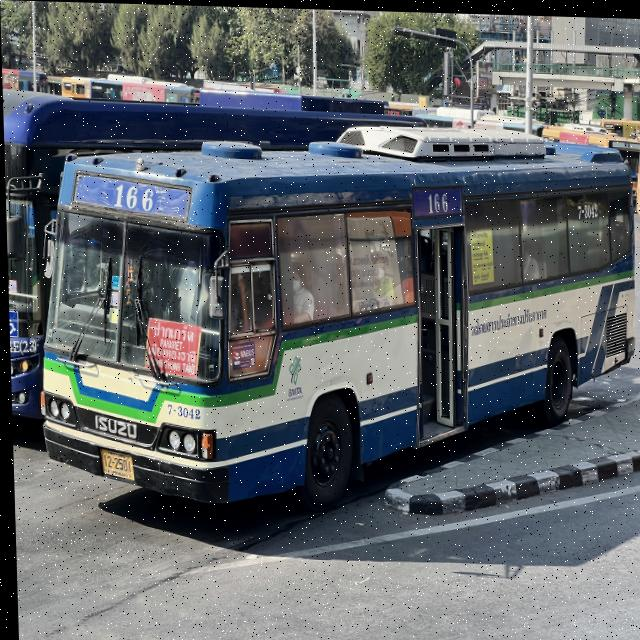BMTA-bus: (31, 115, 640, 519)
Bus-Line-Number: (66, 170, 193, 228)
Destination-Sign-Extra-Bus: (143, 316, 204, 383)
